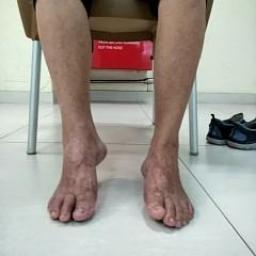Front View -Both Feet-: (26, 111, 204, 241)
